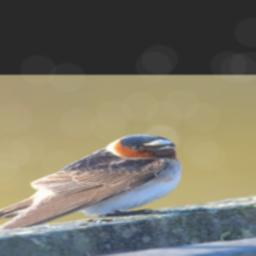Swallow: (0, 134, 185, 235)
